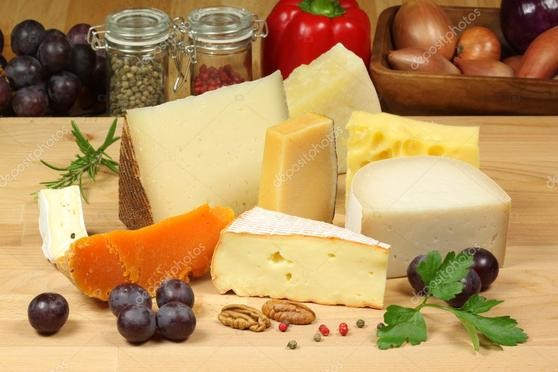cheese: (211, 201, 393, 311)
